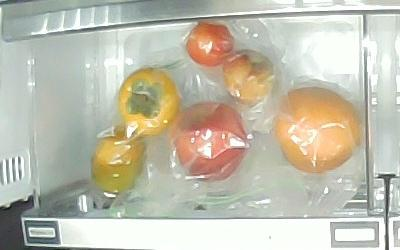apple_vinyl: (172, 101, 247, 182)
grapefruit_vinyl: (276, 87, 362, 175)
persimmon_vinyl: (117, 68, 180, 137), (91, 132, 146, 194)
prune_vinyl: (223, 49, 275, 105), (185, 22, 235, 68)
